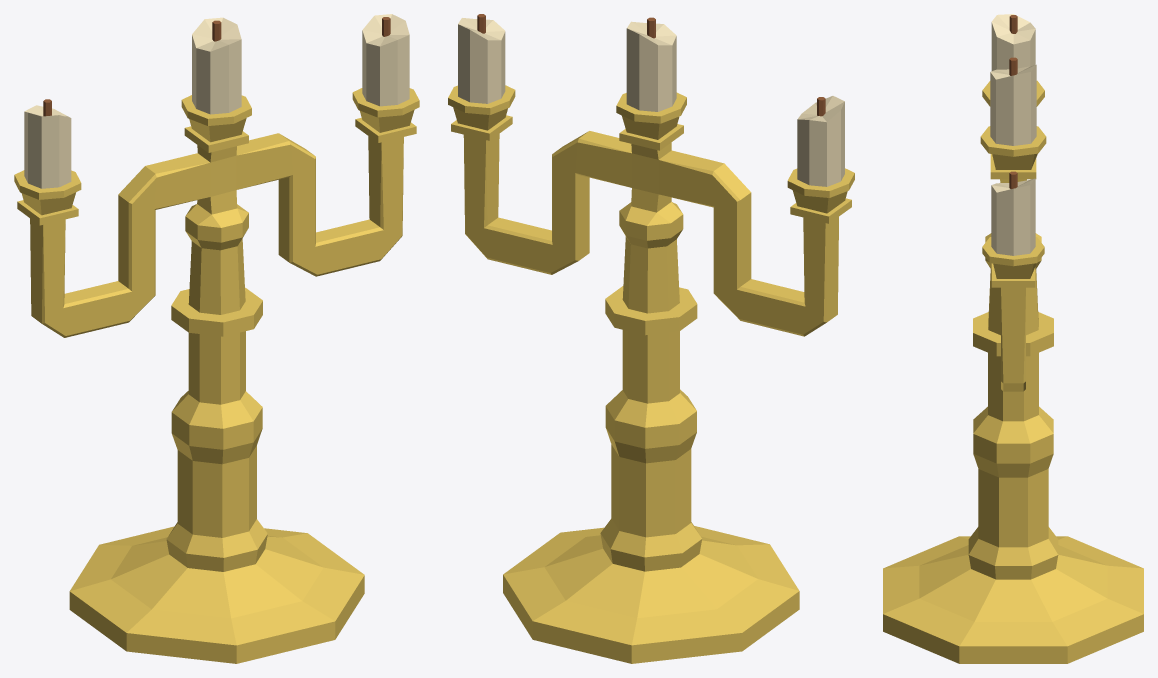
The model's file is Candleholder.fbx.
The picture shows the model from 3 angles, left to right: view 1: azimuth 30°, elevation 25°; view 2: azimuth 150°, elevation 25°; view 3: azimuth 270°, elevation 25°; orthographic projection. The views are drawn at different scales.
Parts seen in each view (by area): view 1: Candleholder; view 2: Candleholder; view 3: Candleholder.
Boxes of the visible parts, left/top/right/bottom form: Candleholder: left=14, top=14, right=419, bottom=663; Candleholder: left=448, top=14, right=854, bottom=663; Candleholder: left=883, top=14, right=1143, bottom=663.
Size of the model in its own units: 30.18 by 42.45 by 18.26.
